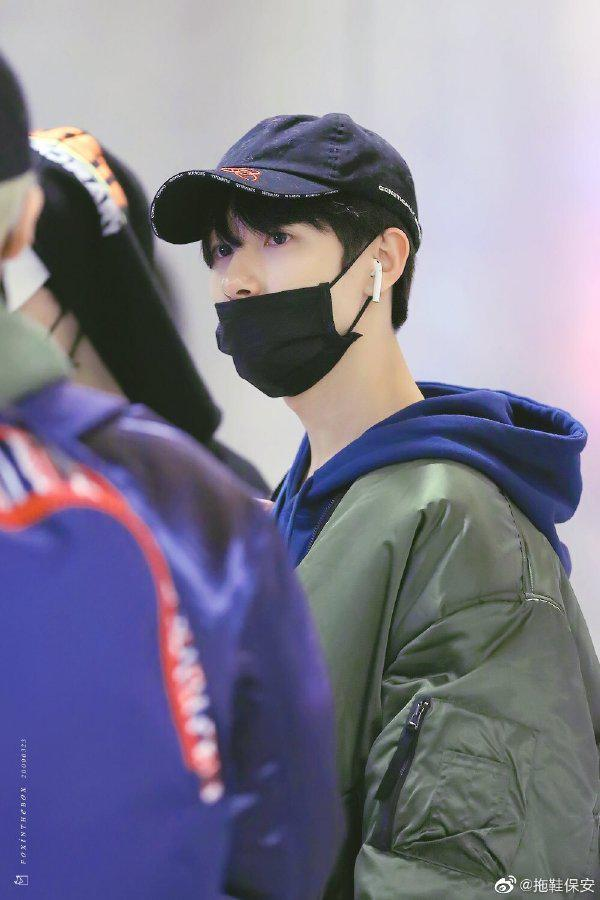WRONG: (206, 205, 347, 398)
